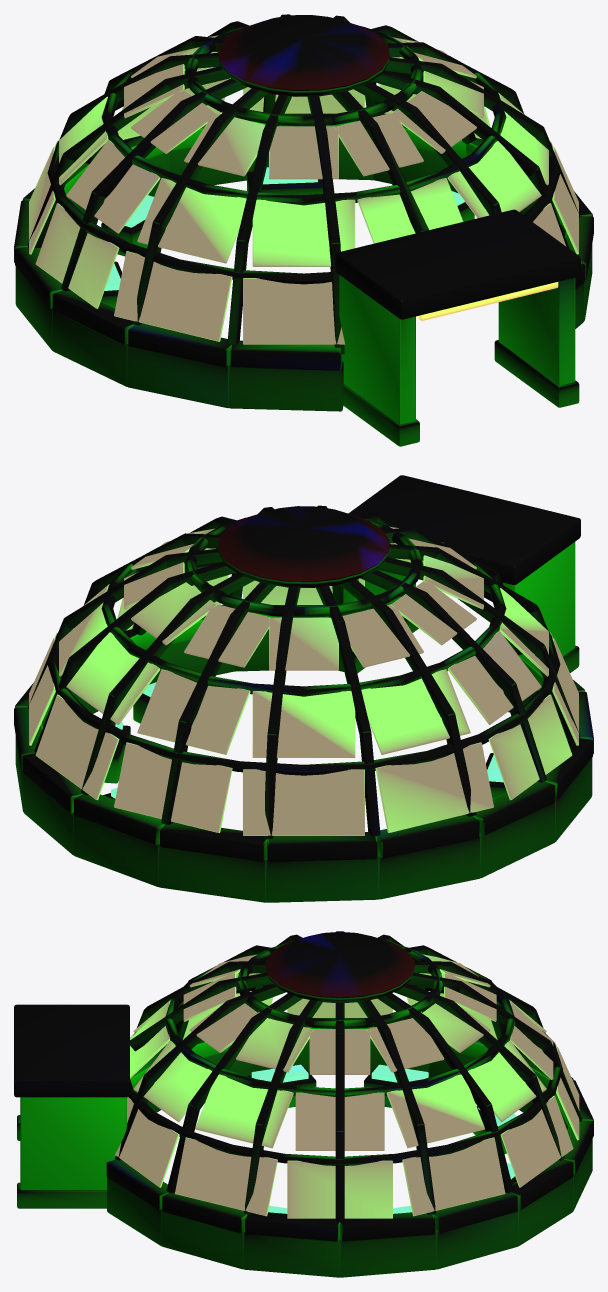
File: hero_geo_dome.glb
The picture shows the model from 3 angles, top to bottom: view 1: azimuth 30°, elevation 25°; view 2: azimuth 150°, elevation 25°; view 3: azimuth 270°, elevation 25°; orthographic projection. The views are drawn at different scales.
Visible parts, largest first — view 1: HeroGeoDome; view 2: HeroGeoDome; view 3: HeroGeoDome.
Part boxes in pixels (<box>): HeroGeoDome: <box>14,14,593,446</box>; HeroGeoDome: <box>14,475,593,902</box>; HeroGeoDome: <box>14,931,593,1277</box>.
Bounding box in the file's own units: 16.19 × 7.76 × 18.5.
